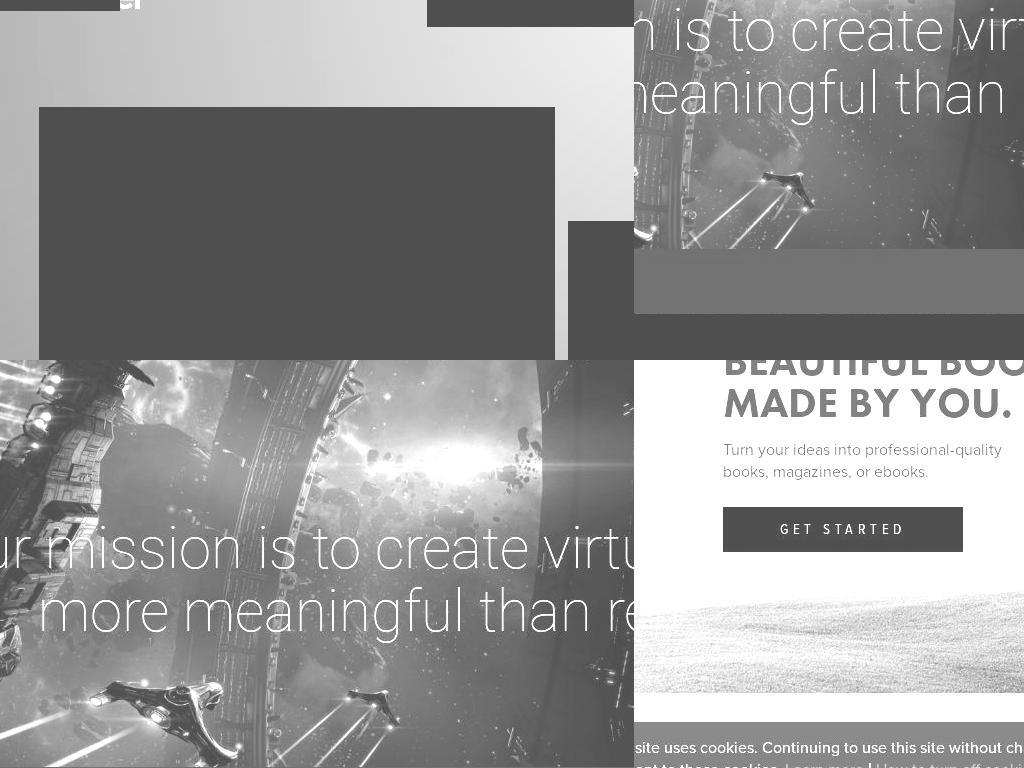button: (723, 506, 963, 552), (427, 0, 538, 27), (538, 0, 634, 27), (720, 757, 915, 768), (0, 0, 120, 11)
heading: (39, 107, 555, 360), (0, 517, 634, 581), (0, 580, 634, 644), (634, 62, 1024, 126), (634, 0, 1024, 63), (723, 375, 1013, 430), (723, 360, 1024, 388)
image: (0, 0, 150, 11)
link: (876, 760, 1024, 768), (785, 760, 864, 768)
text: (0, 360, 634, 768), (634, 0, 1024, 360), (634, 314, 1024, 360), (634, 738, 1024, 768), (634, 269, 1024, 288), (723, 439, 1002, 460), (723, 461, 929, 482), (864, 760, 876, 768)
